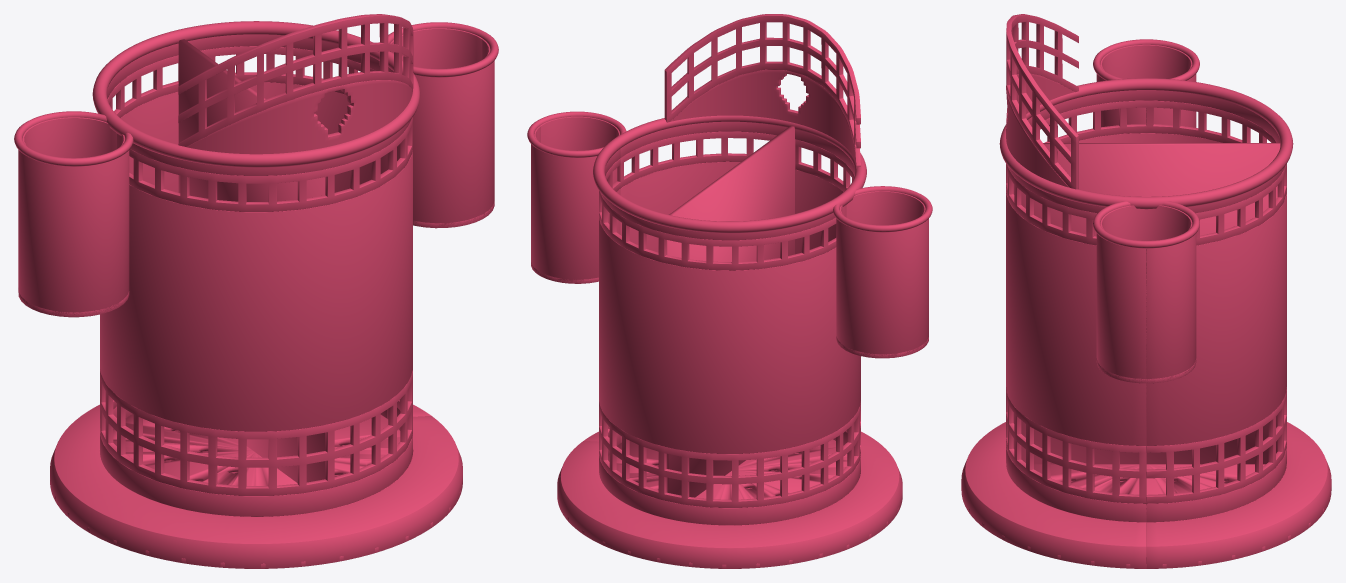
The model's file is PROP_chopstick_holder_v2.glb.
3 renders of one model, left to right at view 1: azimuth 30°, elevation 25°; view 2: azimuth 150°, elevation 25°; view 3: azimuth 270°, elevation 25°, orthographic. The views are drawn at different scales.
Parts seen in each view (by area): view 1: ChopstickHolder; view 2: ChopstickHolder; view 3: ChopstickHolder.
Part boxes in pixels (box(x1,y1,x2,y2)): ChopstickHolder: box(14, 14, 498, 568); ChopstickHolder: box(527, 14, 932, 568); ChopstickHolder: box(961, 14, 1331, 568).
Bounding box in the file's own units: 0.19 × 0.1999 × 0.145.
